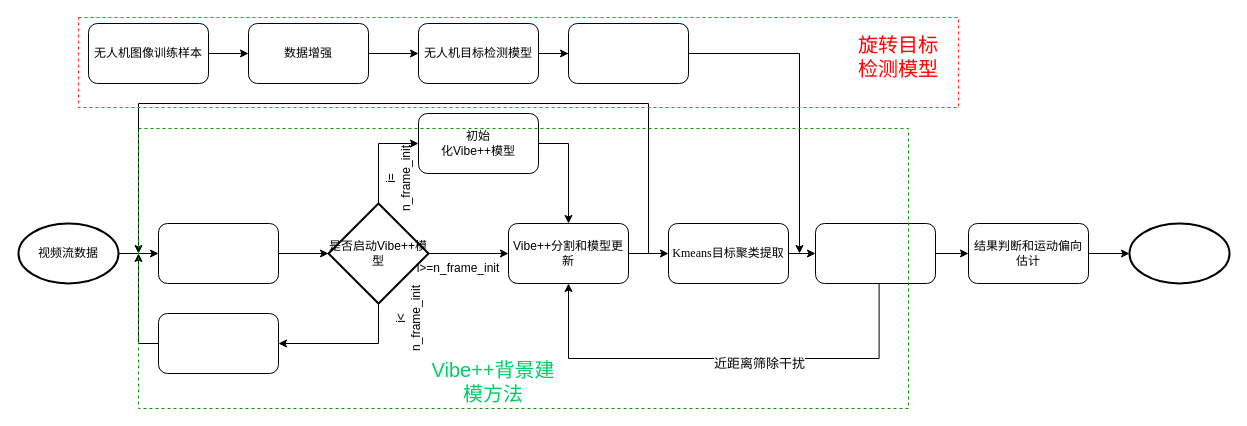
Some shapes in this 1247 by 426 pixel diagram are drawn without their labels. The centre of each missing label's shape, as x and y in pixels:
"检测结果" belongs at point (628, 53).
"目标流数据" belongs at point (218, 253).
"累加像素、累加绝对值帧间差分" belongs at point (218, 343).
"结束" belongs at point (1179, 253).
"虚假目标检测" belongs at point (875, 253).
